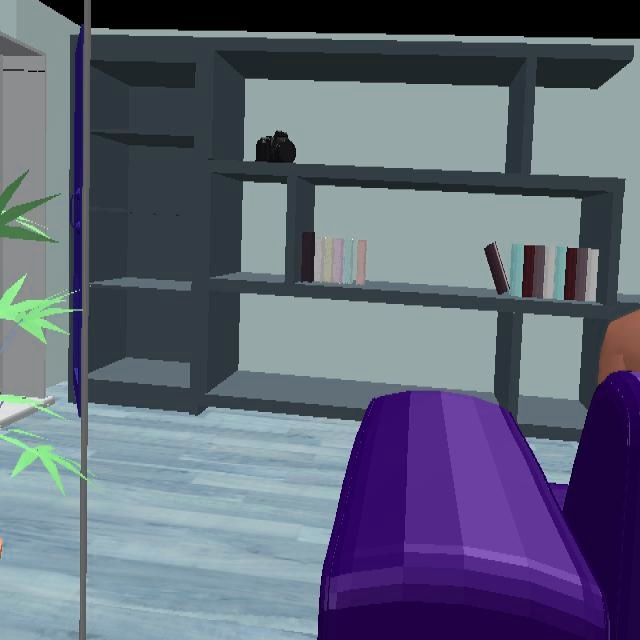book: (483, 243, 603, 304), (302, 232, 366, 288)
bookshelf: (71, 29, 640, 421)
person: (597, 309, 640, 385)
sofa: (315, 371, 640, 640)
